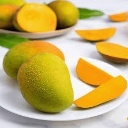mango: (17, 53, 74, 113), (11, 4, 59, 34)
